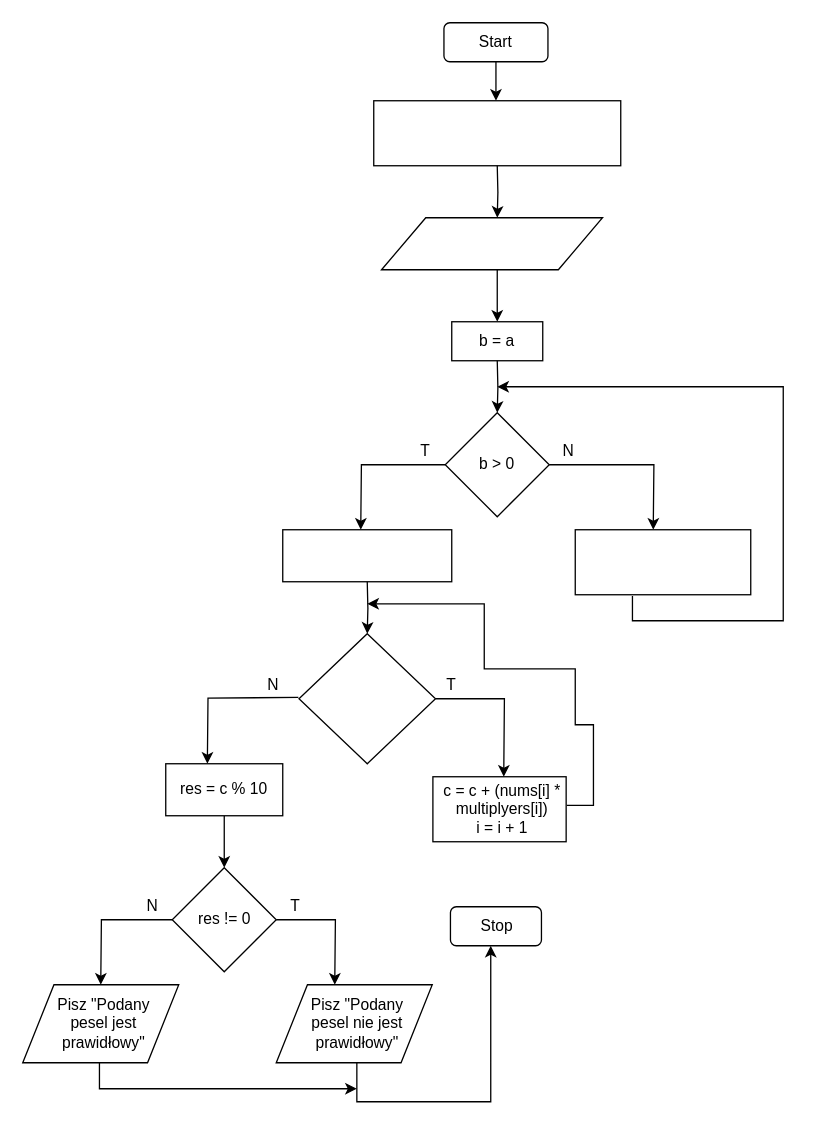
The diagram is 816 pixels wide and 1135 high, and some of its shapes have lost their labels. Each missing label, with the box of its shape:
i < rozmiar wektora nums: (298, 632, 436, 764)
multiplyers = "13791379131" Zainicjuj wektor nums i liczbę c: (372, 99, 621, 166)
Odwróć wektor nums i = 0: (281, 528, 452, 582)
Pisz "Podaj pesel: " Czytaj a: (380, 216, 603, 270)
PUSH(nums, b %10) b = b / 10: (574, 528, 751, 595)
